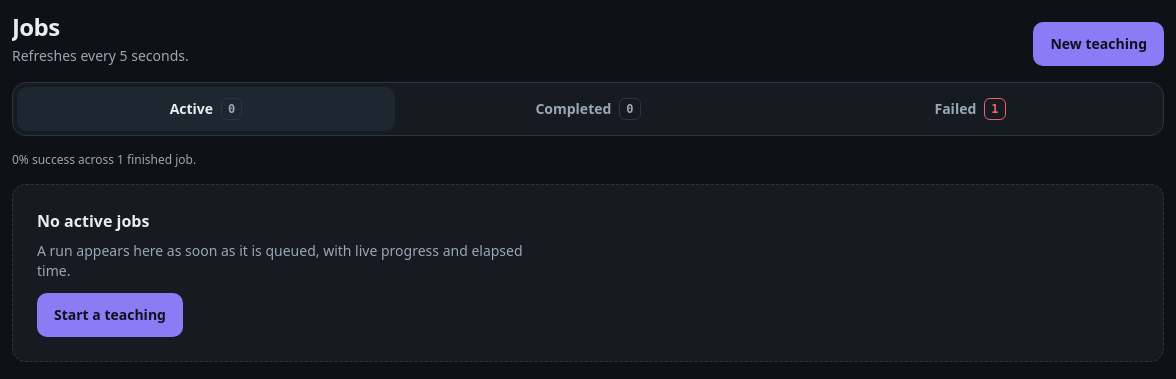
it: Jobs rows › shows only the first line of the error on a failed row
The image size is (1176, 379).
Click the tab "Failed 1": (970, 109) [781, 87, 1159, 131]
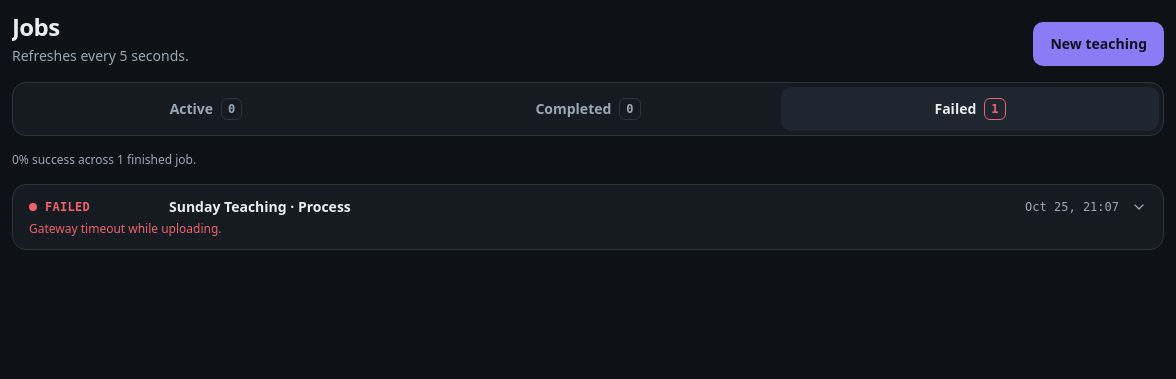
expect the text "FAILED" is shown: met, box [45, 199, 90, 215]
expect the text "Gateway timeout while uploading." is shown: met, box [29, 220, 222, 237]
